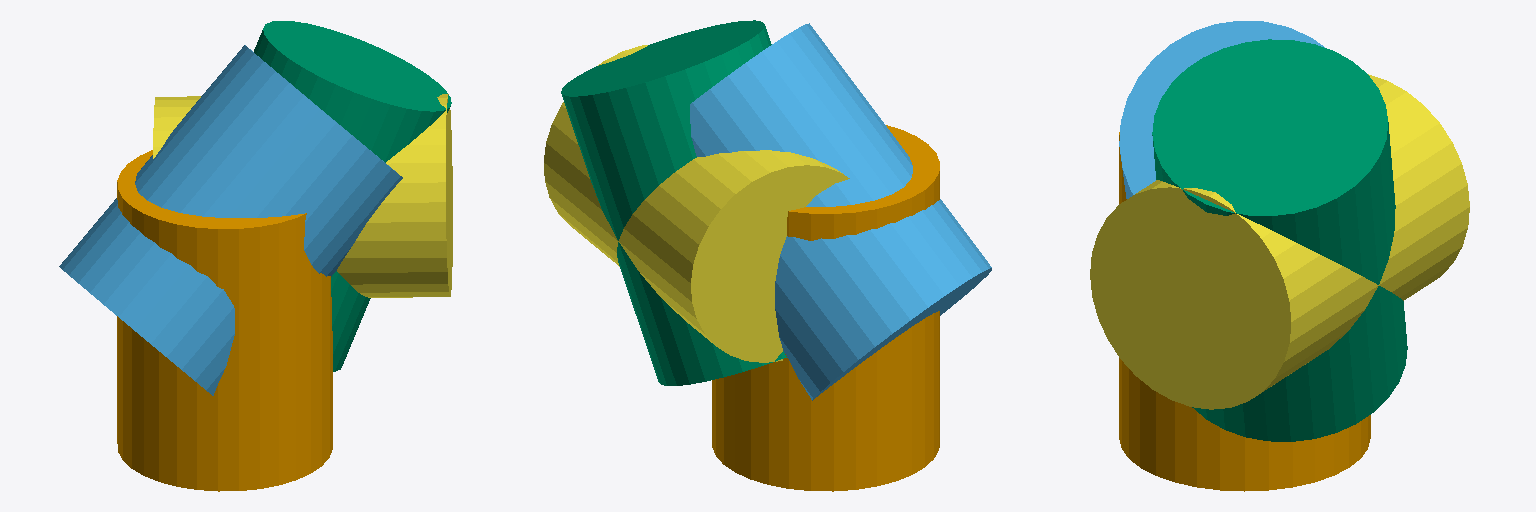
The robot description file, URDF, robot "pepe":
<?xml version="1.0"?><robot name="pepe">
	<link name="0">
		<visual>
			<geometry>
				<cylinder length="2.6780468539074365" radius="0.9999"/>
			</geometry>
		</visual>
		<collision>
			<geometry>
				<cylinder length="2.6780468539074365" radius="0.9999"/>
			</geometry>
		</collision>
		<inertial>
			<mass value="8.411649739873743"/>
			<inertia ixx="0.03" iyy="0.03" izz="0.03" ixy="0" ixz="0" iyx="0"/>
		</inertial>
	</link>
	<link name="11">
		<visual>
			<geometry>
				<cylinder length="2.6780468539074365" radius="0.9999"/>
			</geometry>
		</visual>
		<collision>
			<geometry>
				<cylinder length="2.6780468539074365" radius="0.9999"/>
			</geometry>
		</collision>
		<inertial>
			<mass value="8.411649739873743"/>
			<inertia ixx="0.03" iyy="0.03" izz="0.03" ixy="0" ixz="0" iyx="0"/>
		</inertial>
	</link>
	<link name="22">
		<visual>
			<geometry>
				<cylinder length="2.710380225304323" radius="0.9409528004221678"/>
			</geometry>
		</visual>
		<collision>
			<geometry>
				<cylinder length="2.710380225304323" radius="0.9409528004221678"/>
			</geometry>
		</collision>
		<inertial>
			<mass value="7.53903519958272"/>
			<inertia ixx="0.03" iyy="0.03" izz="0.03" ixy="0" ixz="0" iyx="0"/>
		</inertial>
	</link>
	<link name="23">
		<visual>
			<geometry>
				<cylinder length="2.710380225304323" radius="0.9409528004221678"/>
			</geometry>
		</visual>
		<collision>
			<geometry>
				<cylinder length="2.710380225304323" radius="0.9409528004221678"/>
			</geometry>
		</collision>
		<inertial>
			<mass value="7.53903519958272"/>
			<inertia ixx="0.03" iyy="0.03" izz="0.03" ixy="0" ixz="0" iyx="0"/>
		</inertial>
	</link>
	<joint name="11_to_0" type="revolute">
		<parent link="0"/>
		<child link="11"/>
		<axis xyz="0 1 0"/>
		<limit effort="1" upper="-3.1415" lower="3.1415" velocity="1"/>
		<origin rpy="0.7978502867217495 6.225550231962962 1.5650392050855029" xyz="0.1319503410670193 0.058181755163629334 0.8637086315317808"/>
	</joint>
	<joint name="22_to_0" type="revolute">
		<parent link="0"/>
		<child link="22"/>
		<axis xyz="1 0 0"/>
		<limit effort="1" upper="-3.1415" lower="3.1415" velocity="1"/>
		<origin rpy="3.5170570316833674 2.967232691436094 4.156603822045208" xyz="0.9927830442911472 0.2796139280932599 0.8588129745001409"/>
	</joint>
	<joint name="23_to_0" type="revolute">
		<parent link="0"/>
		<child link="23"/>
		<axis xyz="1 0 0"/>
		<limit effort="1" upper="-3.1415" lower="3.1415" velocity="1"/>
		<origin rpy="4.6894093755778234 2.967232691436094 4.156603822045208" xyz="0.9927830442911472 0.2796139280932599 0.8588129745001409"/>
	</joint>
</robot>

--- What the picture shows (computed from the rendered views, not written in the file) ---
Views: 3 orthographic renders of the robot side by side, from view 1: azimuth 30°, elevation 25°; view 2: azimuth 150°, elevation 25°; view 3: azimuth 270°, elevation 25°.
Robot: pepe — 4 links, 3 joints (3 revolute); root link 0; default pose: every joint at zero.
Links seen in each view (by area): view 1: 0, 11, 22, 23; view 2: 11, 0, 23, 22; view 3: 23, 22, 0, 11.
Boxes of the visible links, x1,y1,x2,y2 form: 0: (117, 150, 332, 491); 11: (59, 45, 402, 395); 22: (254, 21, 451, 371); 23: (153, 94, 452, 297); 11: (690, 23, 991, 400); 0: (712, 125, 939, 491); 23: (544, 45, 849, 362); 22: (561, 20, 786, 385); 23: (1090, 74, 1469, 409); 22: (1152, 39, 1407, 441); 0: (1119, 132, 1370, 491); 11: (1119, 21, 1324, 198).
Bounding box of the posed robot: 4.16 × 3.02 × 3.85 m (x, y, z).
Geometry: primitives only (box / cylinder / sphere), no mesh files.
